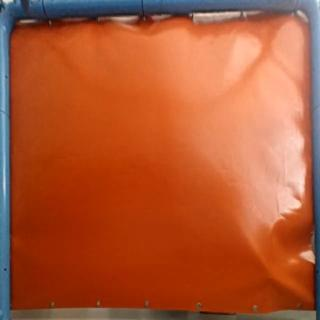Hit-hRxx: (262, 269, 284, 285)
